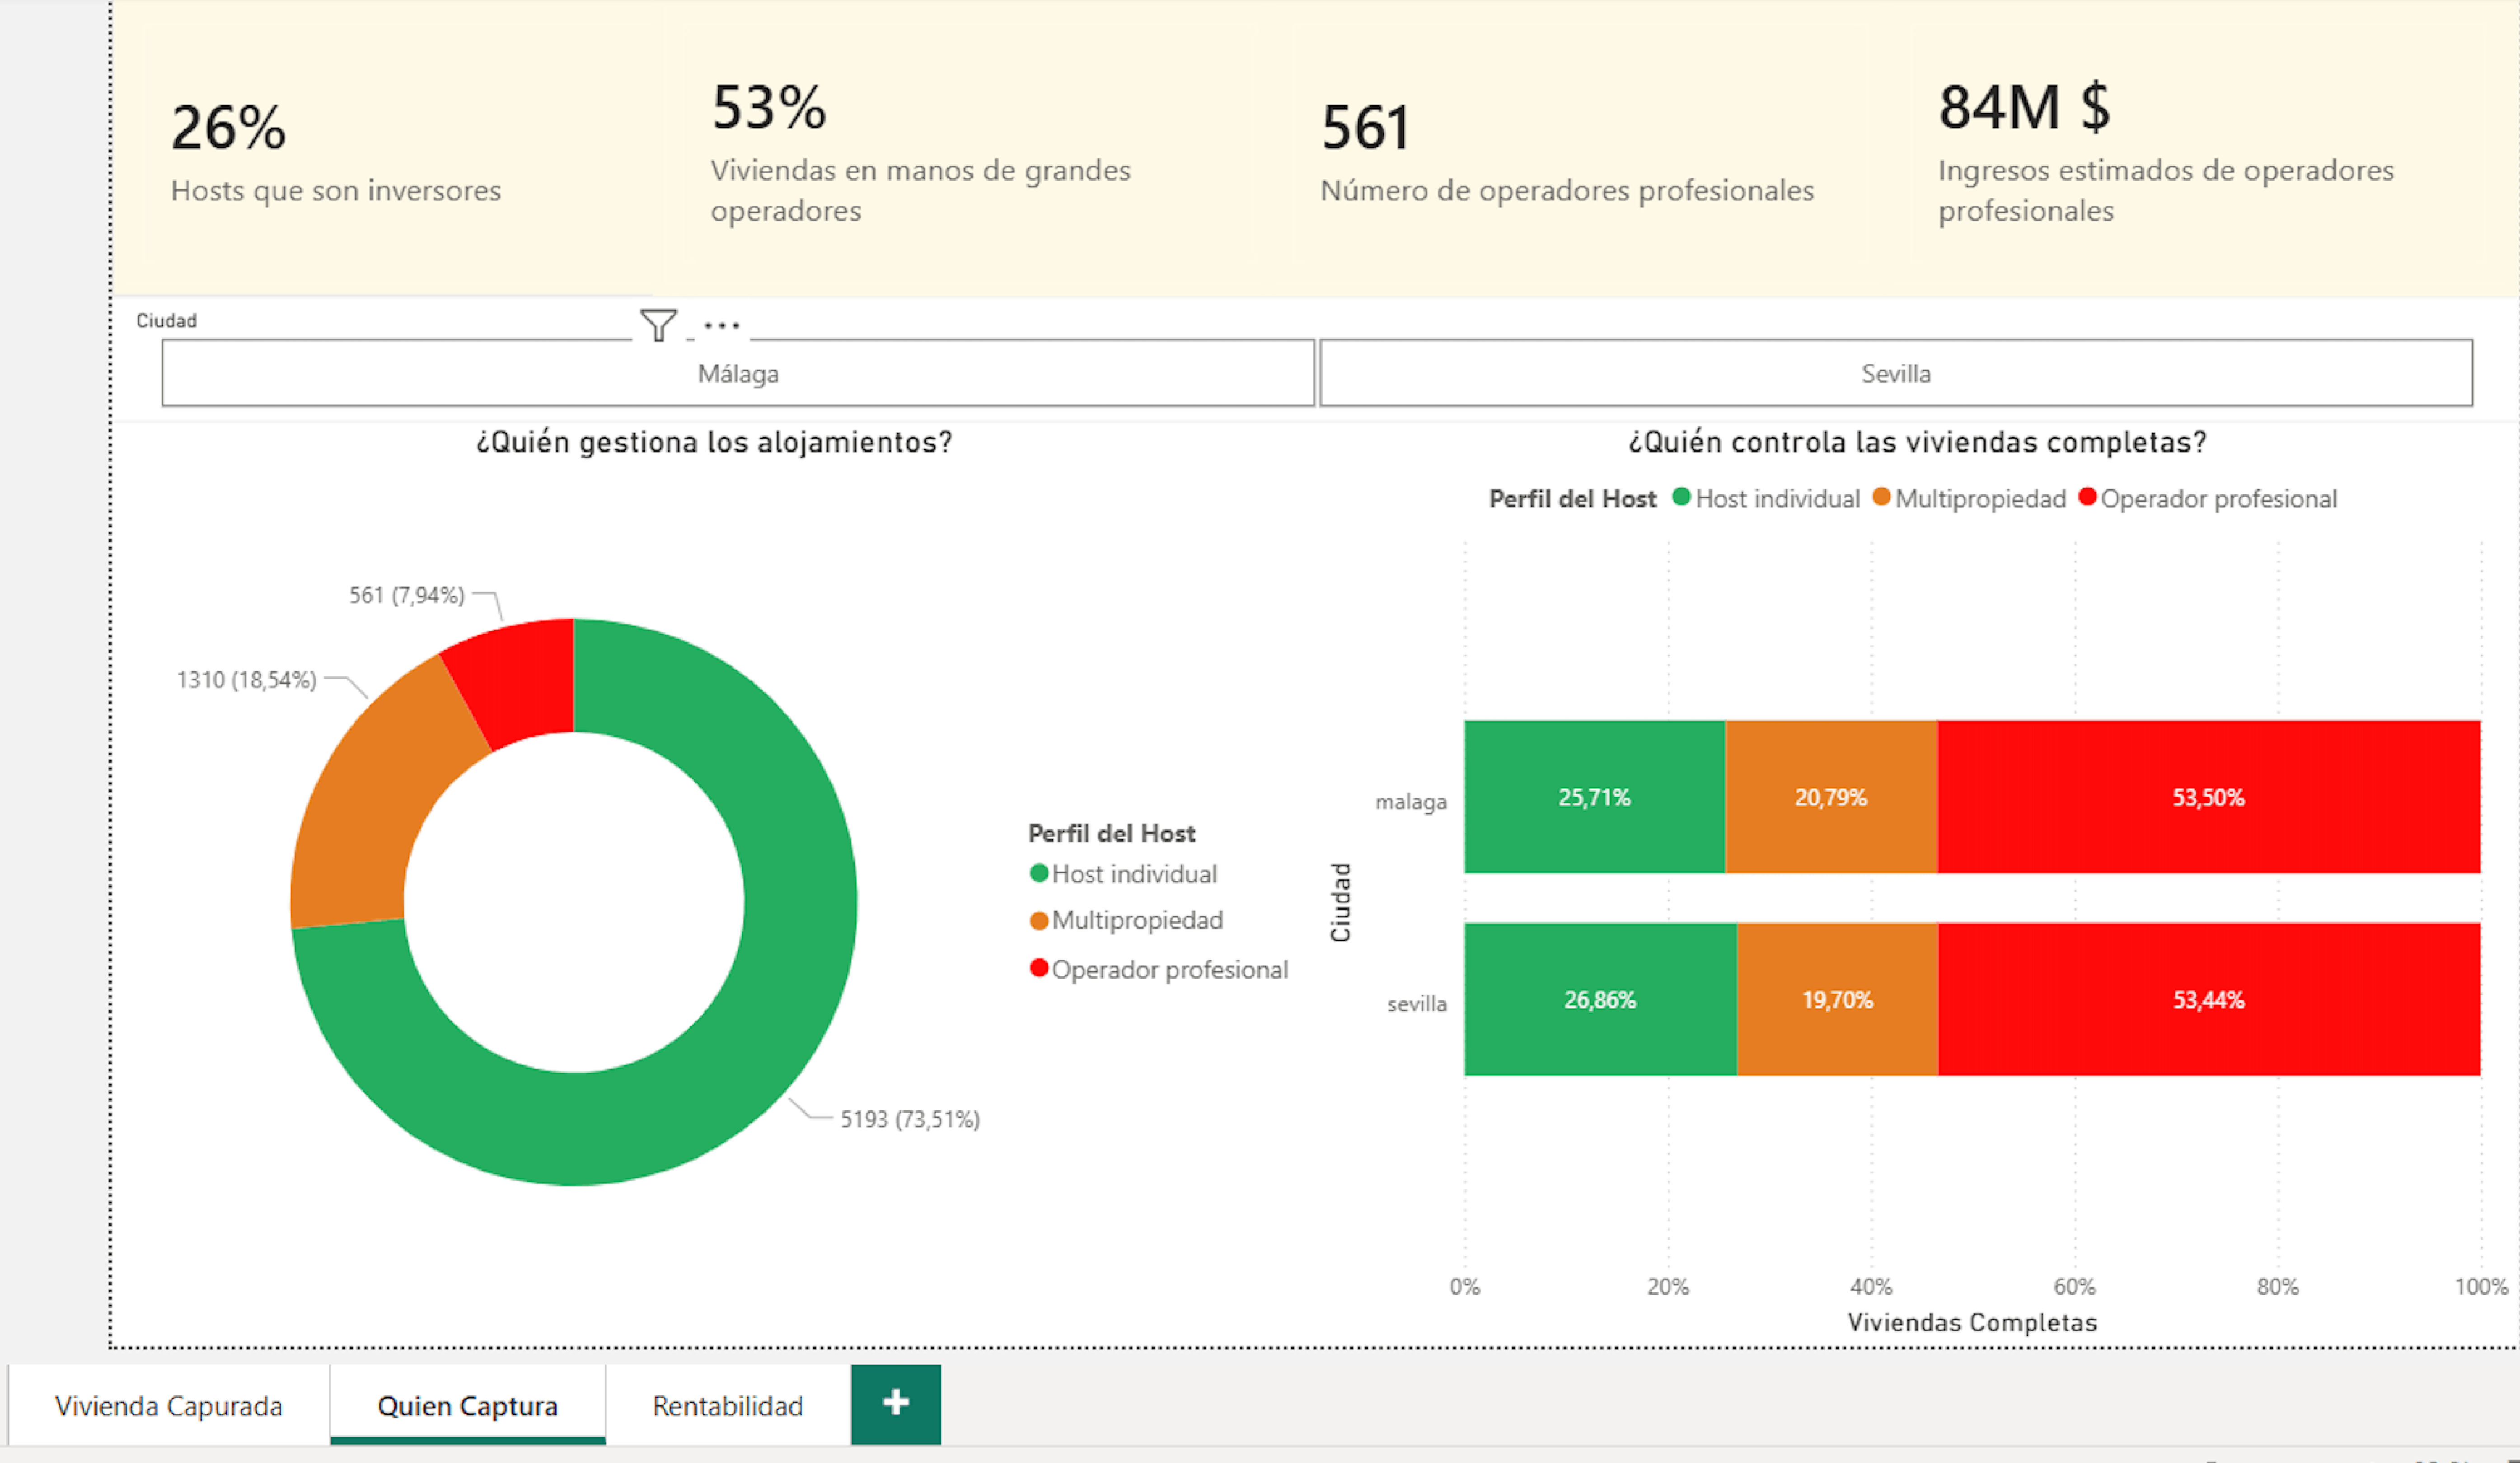

The page's visual inventory and layout, read from the dashboard file:
{"tool":"powerbi","page":{"name":"Quien Captura","canvas":[1280,720],"ordinal":1},"visuals":[{"type":"donutChart","title":"¿Quién gestiona los alojamientos?","fields":{"Y":["CountNonNull(Perfil de Hosts.HOST_ID)"],"Category":["Perfil de Hosts.HOST_PROFILE"]},"box":[0,228.5,640.8,491.8],"z":0},{"type":"slicer","fields":{"Values":["Ciudades.Ciudad Display"]},"box":[0,162.6,1280.3,64.8],"z":1000},{"type":"hundredPercentStackedBarChart","title":"¿Quién controla las viviendas completas?","fields":{"Category":["Perfil de Hosts.CITY"],"Series":["Perfil de Hosts.HOST_PROFILE"],"Y":["Sum(Perfil de Hosts.ENTIRE_HOME_LISTINGS)"]},"box":[640.8,228.5,639.4,491.8],"z":2000},{"type":"cardVisual","fields":{"Data":["Perfil de Hosts.Pct No Particulares"]},"box":[0,0,339.9,161.6],"z":3000},{"type":"cardVisual","fields":{"Data":["Perfil de Hosts.Pct Viviendas Controladas Por Operadores"]},"box":[287,0,339.9,161.6],"z":4003},{"type":"cardVisual","fields":{"Data":["Perfil de Hosts.Num Operadores Profesionales"]},"box":[611.6,0,339.9,161.6],"z":4004},{"type":"cardVisual","fields":{"Data":["Perfil de Hosts.Revenue Operadores Prof"]},"box":[940.4,0,339.9,161.6],"z":4005}]}

Visuals, with their boxes on the page's 1280x720 design canvas (x1, y1, x2, y2). These are canvas units, not pixel positions in the 2520x1463 screenshot, which may show the page scaled, cropped or inside an application window:
"¿Quién gestiona los alojamientos?" donutChart: <box>0,228,641,720</box>
slicer - Ciudades.Ciudad Display: <box>0,163,1280,227</box>
"¿Quién controla las viviendas completas?" hundredPercentStackedBarChart: <box>641,228,1280,720</box>
cardVisual - Perfil de Hosts.Pct No Particulares: <box>0,0,340,162</box>
cardVisual - Perfil de Hosts.Pct Viviendas Controladas Por Operadores: <box>287,0,627,162</box>
cardVisual - Perfil de Hosts.Num Operadores Profesionales: <box>612,0,952,162</box>
cardVisual - Perfil de Hosts.Revenue Operadores Prof: <box>940,0,1280,162</box>
